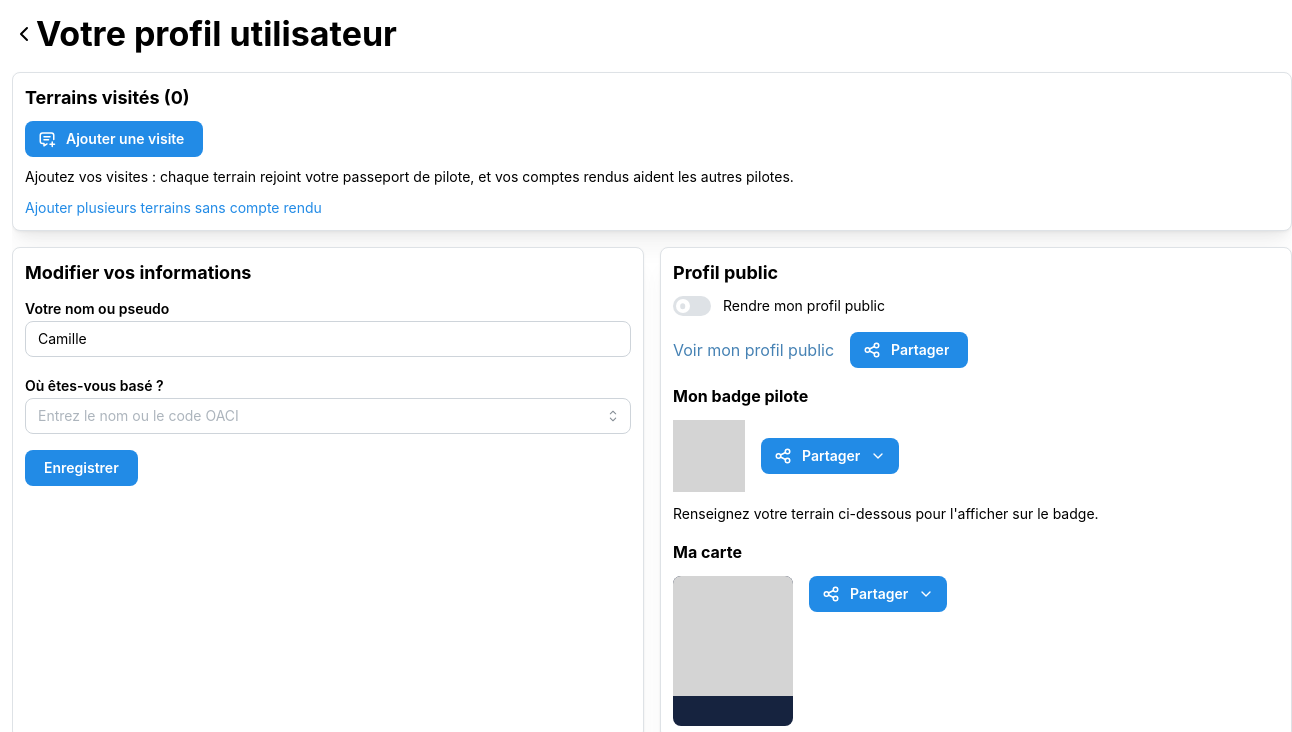
Scenario: Profile › reports a failed save
Click the button "Enregistrer": (81, 468) [25,450,138,486]
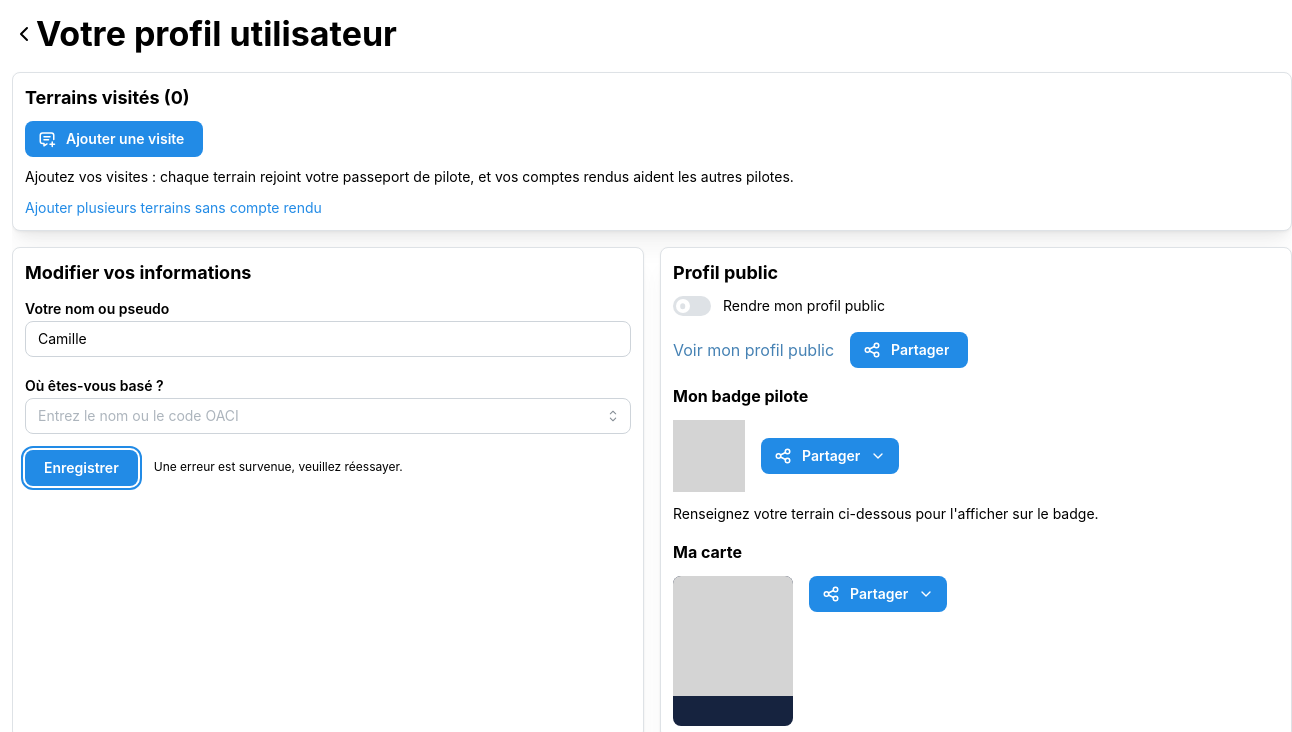
Expected: the text "Une erreur est survenue, veuillez réessayer." is shown, [154,459,403,476]
